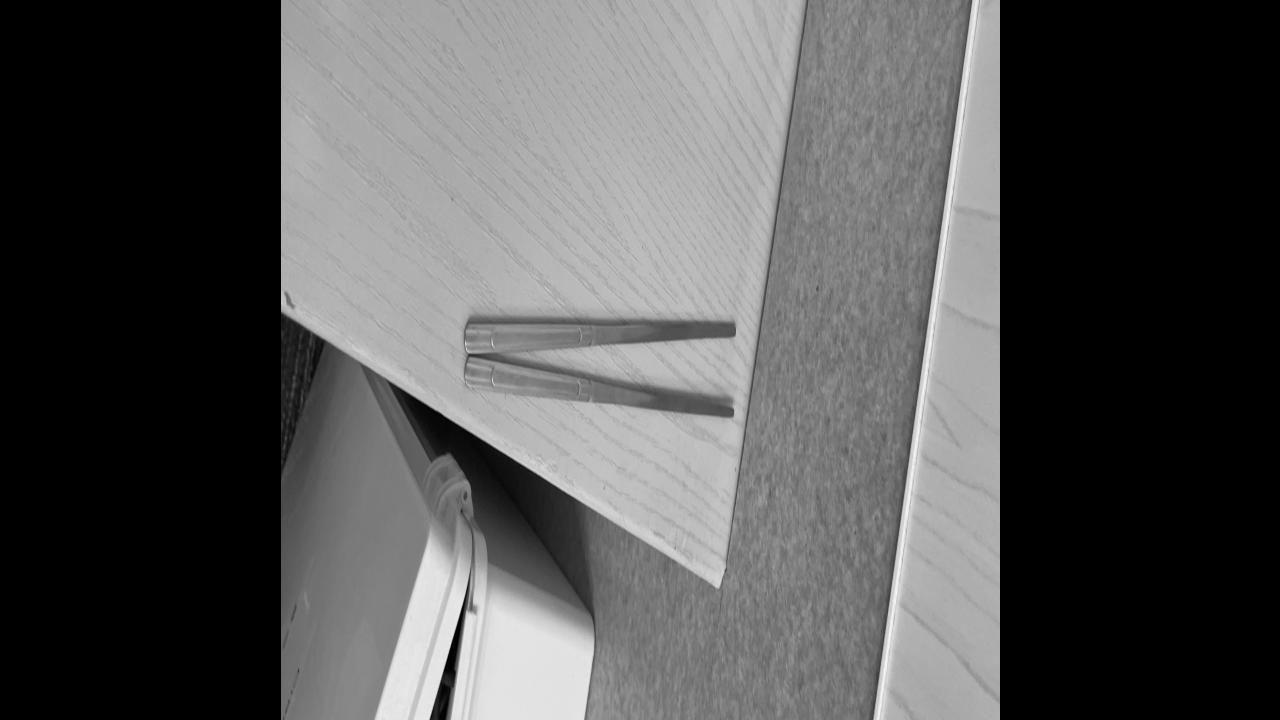chopstick: (464, 317, 736, 423)
